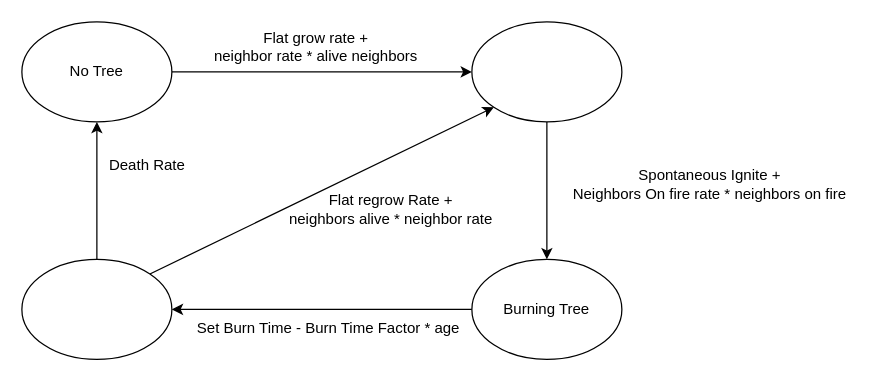
This 881x381 diagram has some shape labels left out. The centre of each missing label's shape, as x and y in pixels:
"Alive/Healthy Tree" belongs at point 546,71.
"Burned Tree" belongs at point 96,308.
